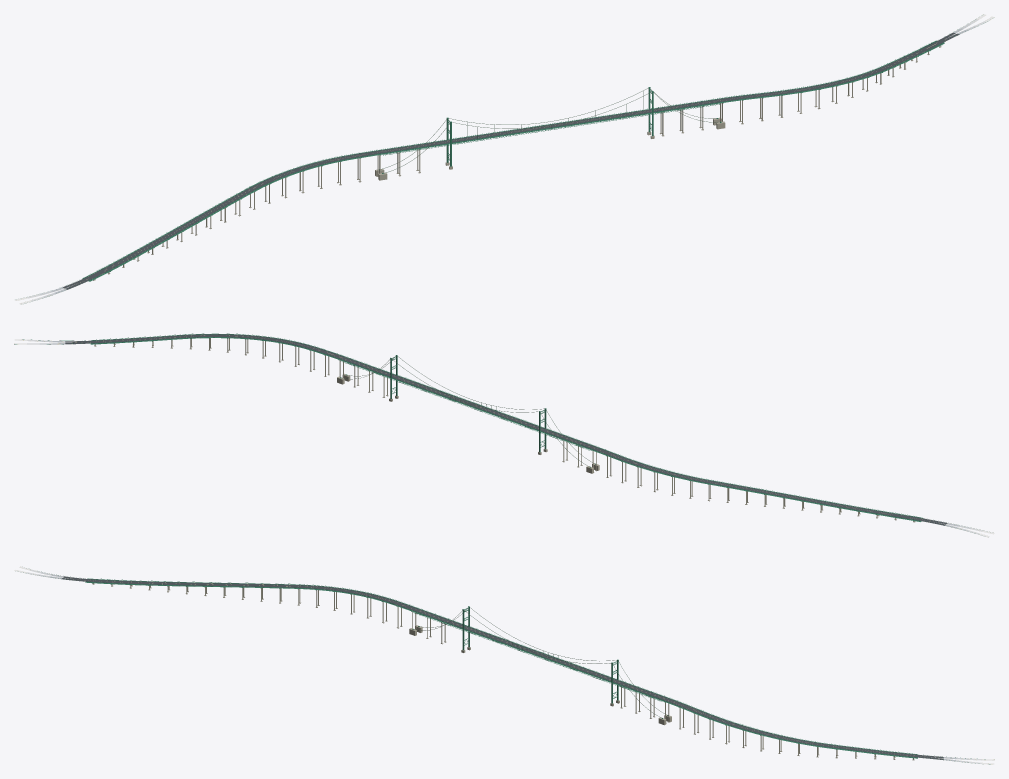
Rendered from vincent-thomas-bridge-near.glb.
3 renders of one model, top to bottom at view 1: azimuth 30°, elevation 25°; view 2: azimuth 150°, elevation 25°; view 3: azimuth 330°, elevation 25°, orthographic. The views are drawn at different scales.
Parts seen in each view (by area): view 1: vincent-thomas-bridge-1-steel, vincent-thomas-bridge-1-asphalt, vincent-thomas-bridge-0-asphalt, vincent-thomas-bridge-2-asphalt, vincent-thomas-bridge-0-steel, vincent-thomas-bridge-2-steel, vincent-thomas-bridge-2-concrete, vincent-thomas-bridge-1-concrete, vincent-thomas-bridge-1-cable; view 2: vincent-thomas-bridge-1-steel, vincent-thomas-bridge-1-asphalt, vincent-thomas-bridge-0-asphalt, vincent-thomas-bridge-2-asphalt, vincent-thomas-bridge-0-steel, vincent-thomas-bridge-2-steel, vincent-thomas-bridge-2-concrete, vincent-thomas-bridge-1-concrete; view 3: vincent-thomas-bridge-1-steel, vincent-thomas-bridge-1-asphalt, vincent-thomas-bridge-2-asphalt, vincent-thomas-bridge-0-asphalt, vincent-thomas-bridge-2-steel, vincent-thomas-bridge-0-steel, vincent-thomas-bridge-2-concrete, vincent-thomas-bridge-1-concrete.
Boxes of the visible parts, x1,y1,x2,y2 form: vincent-thomas-bridge-1-steel: [316, 87, 703, 173]; vincent-thomas-bridge-1-asphalt: [317, 102, 701, 164]; vincent-thomas-bridge-0-asphalt: [62, 162, 319, 289]; vincent-thomas-bridge-2-asphalt: [699, 32, 959, 104]; vincent-thomas-bridge-0-steel: [42, 162, 320, 298]; vincent-thomas-bridge-2-steel: [699, 19, 987, 122]; vincent-thomas-bridge-2-concrete: [699, 46, 941, 130]; vincent-thomas-bridge-1-concrete: [317, 109, 683, 188]; vincent-thomas-bridge-1-cable: [381, 88, 703, 173]; vincent-thomas-bridge-1-steel: [352, 355, 643, 467]; vincent-thomas-bridge-1-asphalt: [356, 362, 642, 466]; vincent-thomas-bridge-0-asphalt: [640, 464, 947, 525]; vincent-thomas-bridge-2-asphalt: [65, 334, 358, 364]; vincent-thomas-bridge-0-steel: [639, 463, 974, 533]; vincent-thomas-bridge-2-steel: [14, 333, 359, 378]; vincent-thomas-bridge-2-concrete: [94, 338, 359, 387]; vincent-thomas-bridge-1-concrete: [368, 371, 642, 487]; vincent-thomas-bridge-1-steel: [365, 593, 653, 703]; vincent-thomas-bridge-1-asphalt: [366, 593, 653, 694]; vincent-thomas-bridge-2-asphalt: [650, 693, 943, 759]; vincent-thomas-bridge-0-asphalt: [61, 576, 368, 595]; vincent-thomas-bridge-2-steel: [649, 692, 990, 764]; vincent-thomas-bridge-0-steel: [23, 571, 369, 596]; vincent-thomas-bridge-2-concrete: [649, 697, 914, 760]; vincent-thomas-bridge-1-concrete: [367, 597, 640, 713].
Bounding box in the file's own units: 2526 × 111 × 245.
